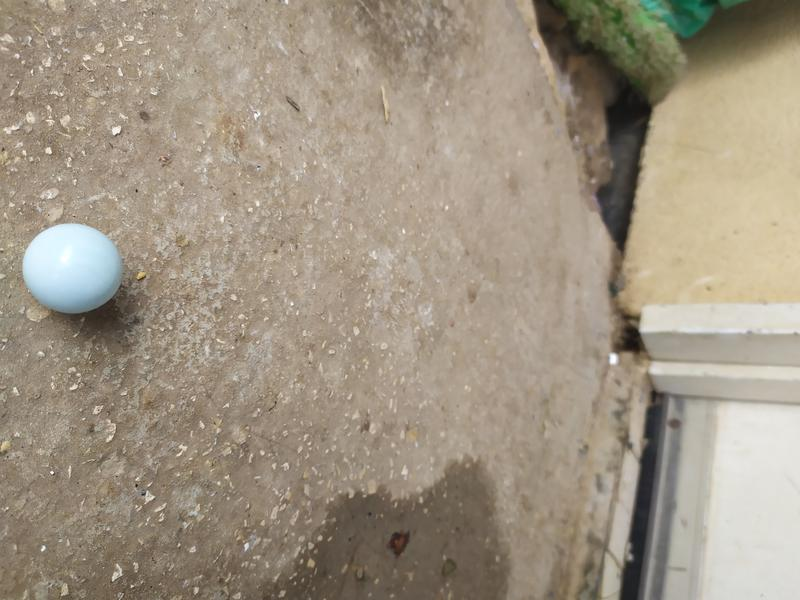Warning: (18, 220, 127, 317)
